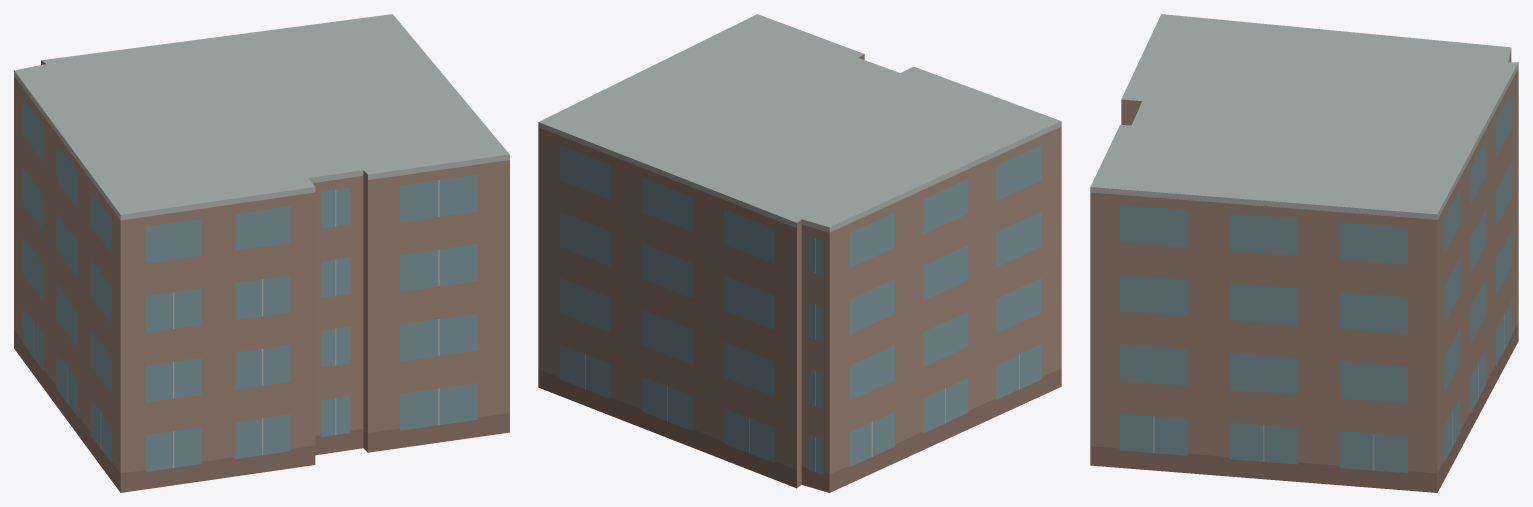
The model's file is survey-upis-32816384.glb.
3 renders of one model, left to right at view 1: azimuth 30°, elevation 25°; view 2: azimuth 150°, elevation 25°; view 3: azimuth 270°, elevation 25°, orthographic. The views are drawn at different scales.
Visible parts, largest first — view 1: survey-upis-32816384.tmp; view 2: survey-upis-32816384.tmp; view 3: survey-upis-32816384.tmp.
Boxes of the visible parts, x1,y1,x2,y2 form: survey-upis-32816384.tmp: [14, 14, 509, 492]; survey-upis-32816384.tmp: [538, 14, 1061, 492]; survey-upis-32816384.tmp: [1090, 14, 1518, 492].
Bounding box in the file's own units: 18.99 × 12.3 × 17.15.
